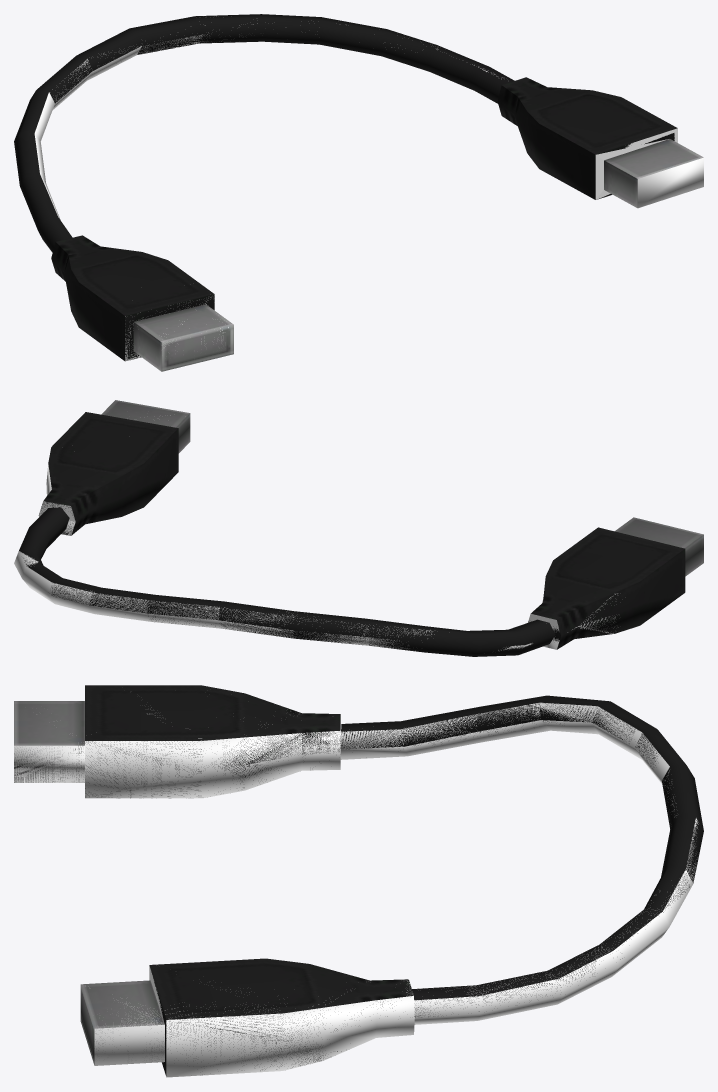
File: blade_pocket_emp_part_cable.glb
The picture shows the model from 3 angles, top to bottom: view 1: azimuth 30°, elevation 25°; view 2: azimuth 150°, elevation 25°; view 3: azimuth 270°, elevation 25°; orthographic projection. The views are drawn at different scales.
Parts seen in each view (by area): view 1: g_cable, o_cable; view 2: g_cable, o_cable; view 3: g_cable, o_cable.
Part boxes in pixels (x1,y1,x2,y2): g_cable: [14, 14, 703, 371]; o_cable: [34, 16, 703, 360]; g_cable: [19, 400, 703, 656]; o_cable: [14, 415, 618, 651]; g_cable: [14, 685, 703, 1075]; o_cable: [14, 702, 698, 1077].
Size of the model in its own units: 0.1707 by 0.0279 by 0.1372.
2 materials, 1 textured.
